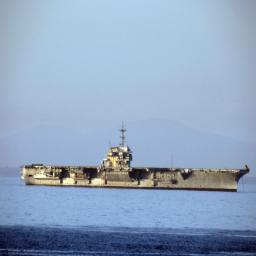Portanaves: (16, 122, 252, 192)
